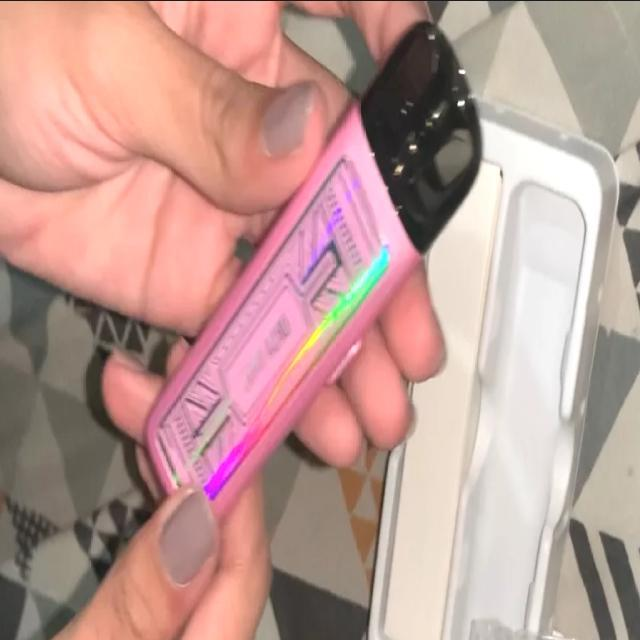Hazard: (146, 20, 483, 541)
